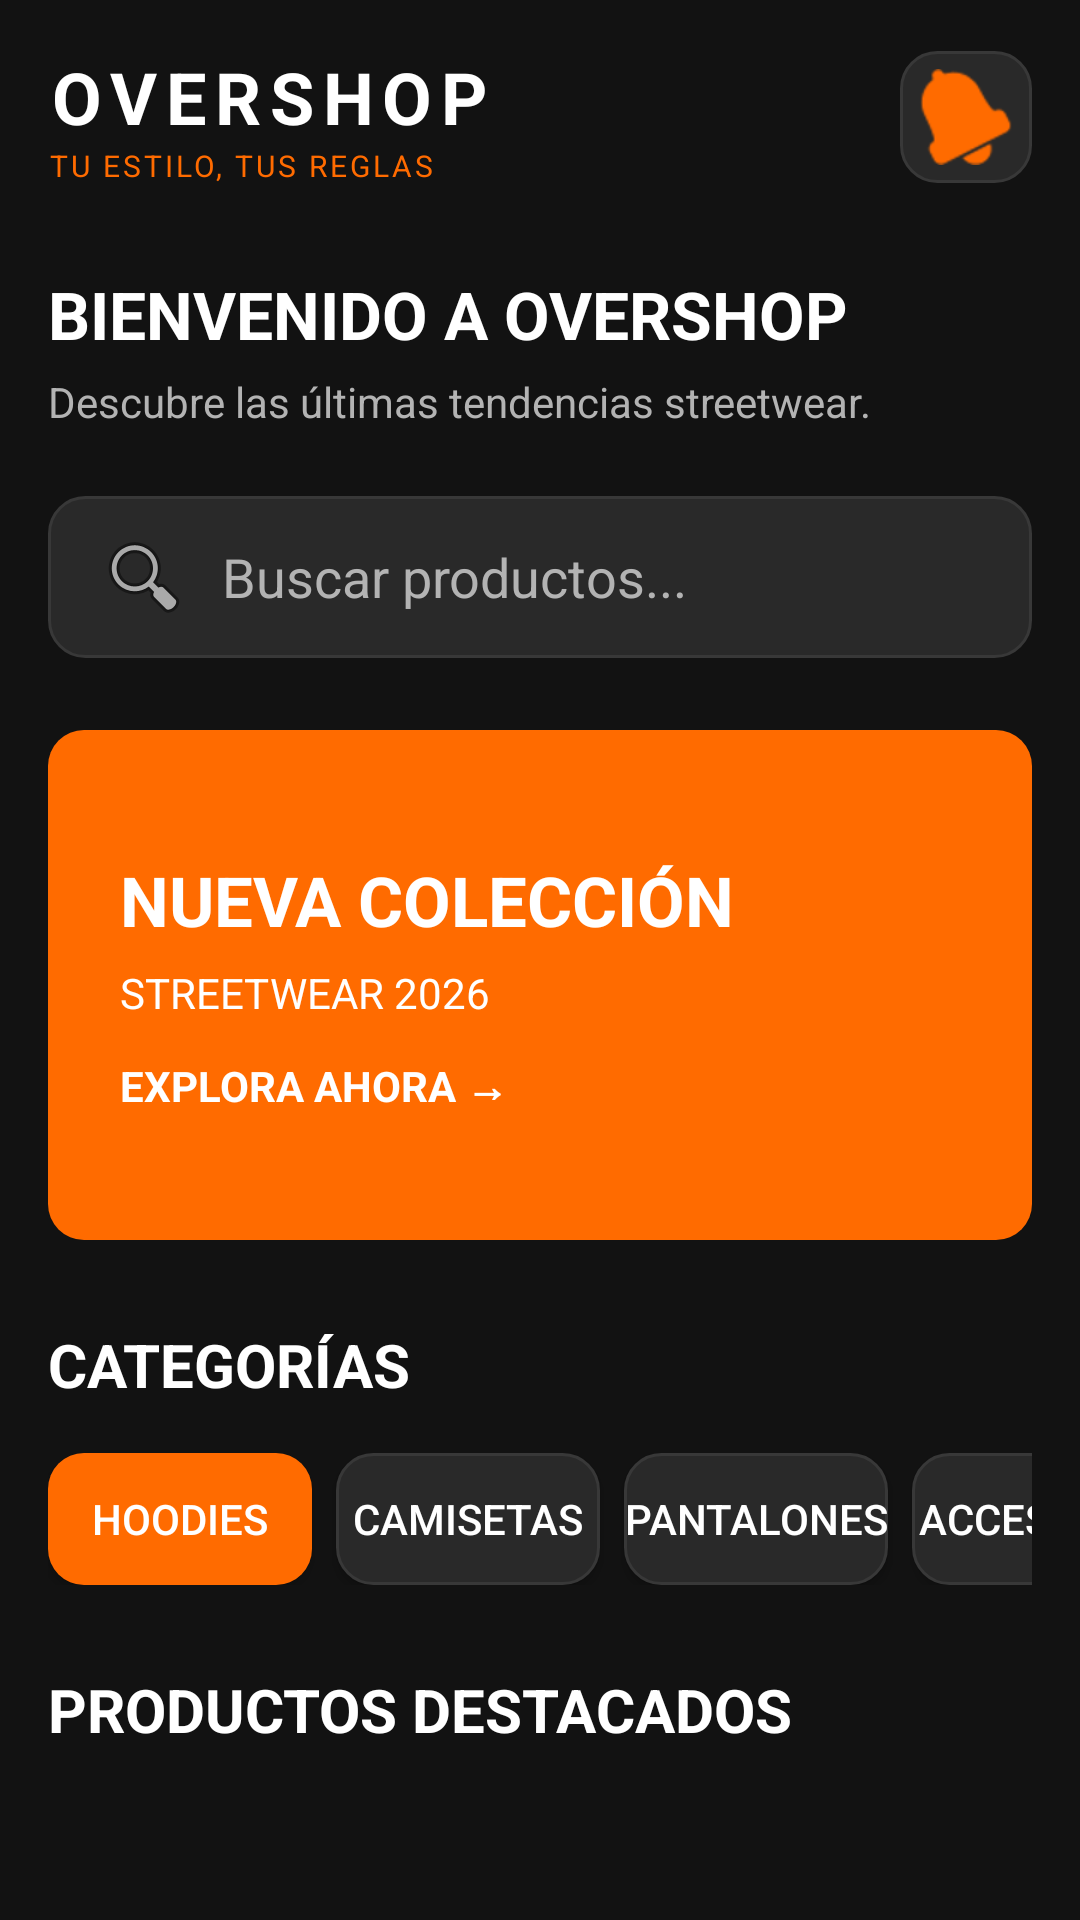

Where to tap for icons on this 1080×1920 app screen, as (x=x, y=y):
Notificaciones: (x=966, y=117)
